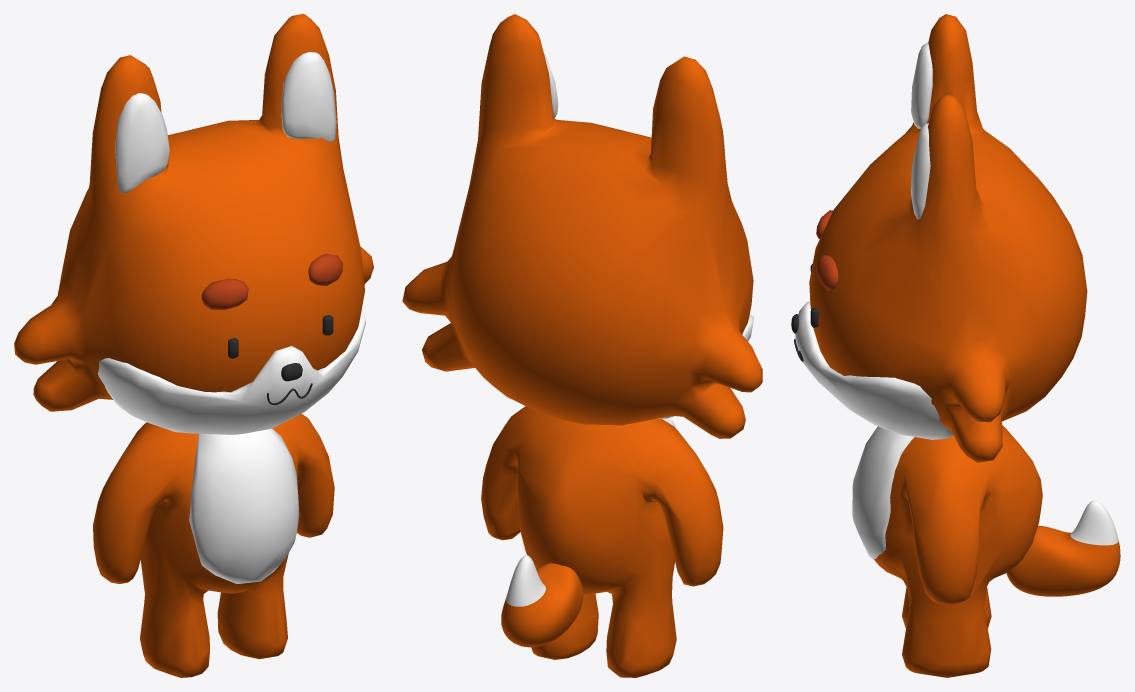
The model's file is Fox_1m.fbx.
The picture shows the model from 3 angles, left to right: view 1: azimuth 30°, elevation 25°; view 2: azimuth 150°, elevation 25°; view 3: azimuth 270°, elevation 25°; orthographic projection. The views are drawn at different scales.
Parts seen in each view (by area): view 1: Fox; view 2: Fox; view 3: Fox.
Part boxes in pixels (bbox=[...]): Fox: bbox=[14, 14, 373, 677]; Fox: bbox=[402, 14, 762, 677]; Fox: bbox=[791, 14, 1120, 677].
Size of the model in its own units: 60 by 100 by 50.
